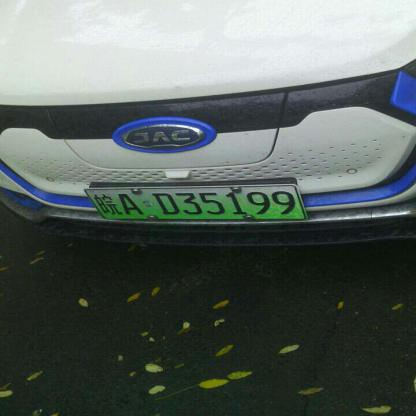lp: (85, 184, 306, 218)
